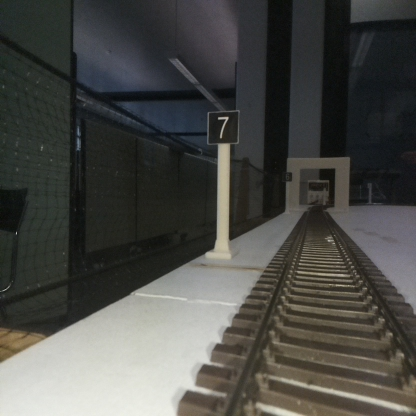black-info-7: (208, 111, 237, 258)
